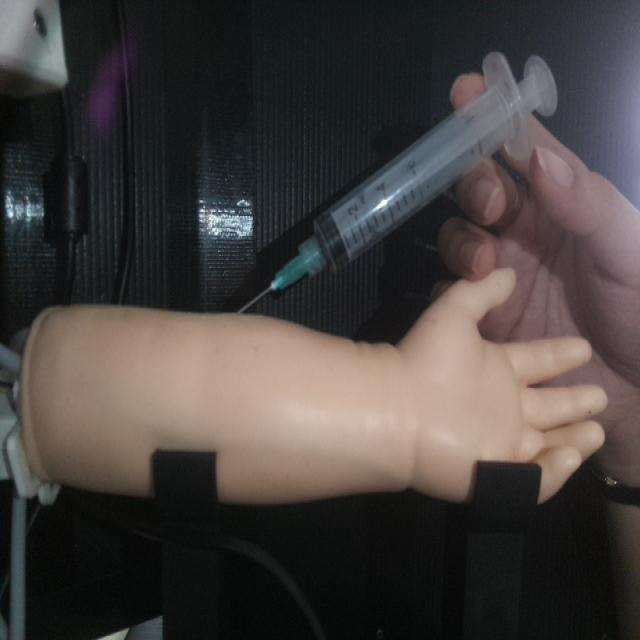Outside: (232, 46, 559, 314)
